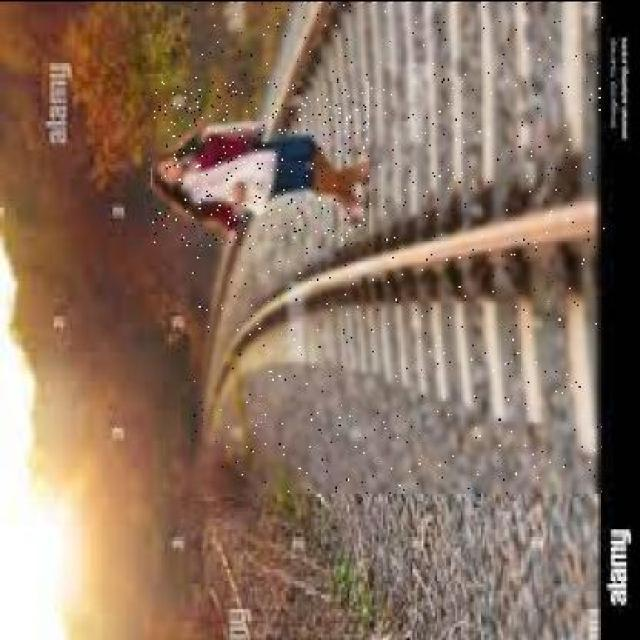danger: (153, 80, 370, 245)
rail: (192, 2, 605, 491)
